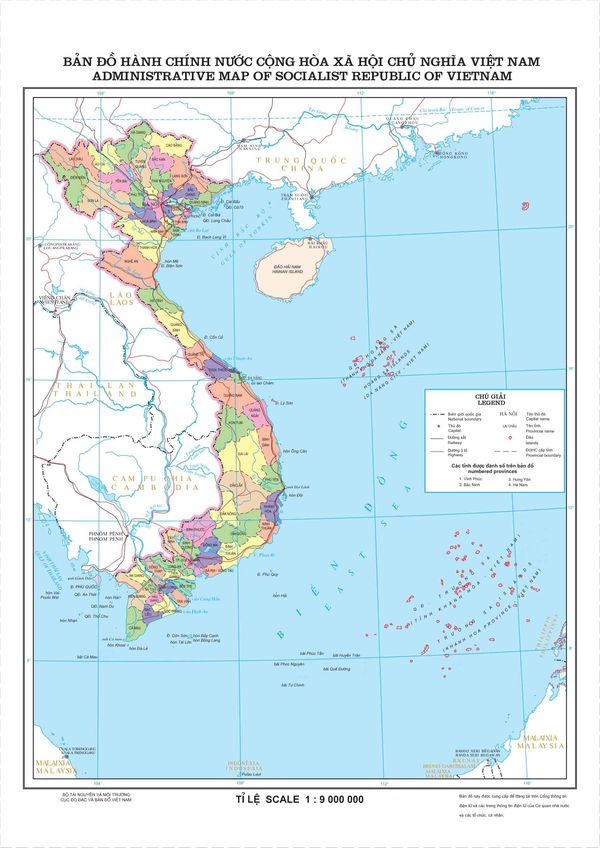Island: (358, 522, 547, 684), (338, 316, 436, 398)
